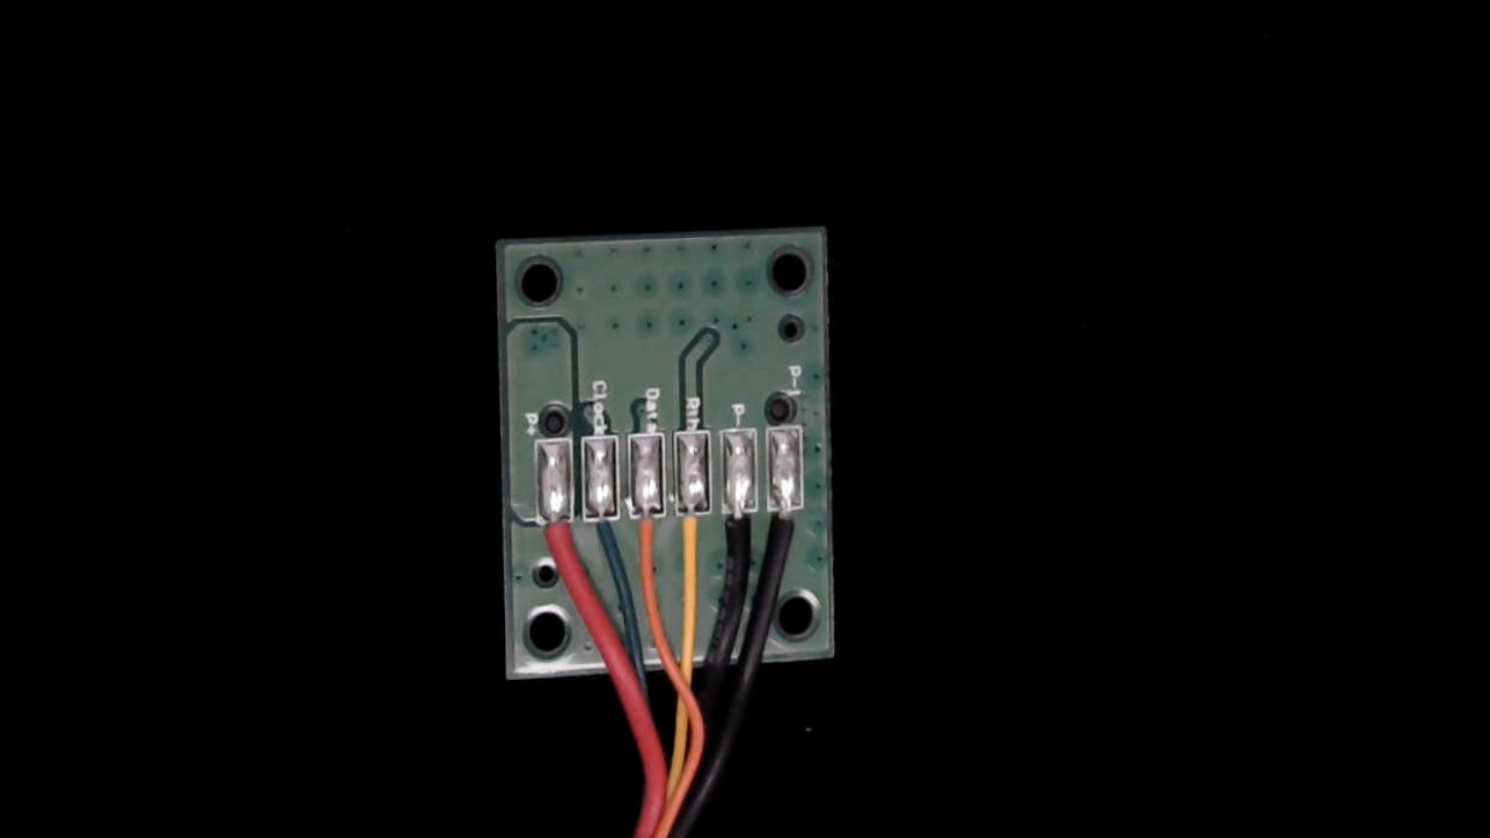Black: (717, 490, 758, 587)
Black1: (768, 489, 807, 579)
Green: (584, 493, 623, 571)
Orange: (629, 493, 667, 589)
Red: (533, 497, 575, 591)
Yellow: (672, 491, 713, 590)
